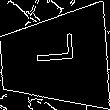L_W: (31, 42, 78, 76)
